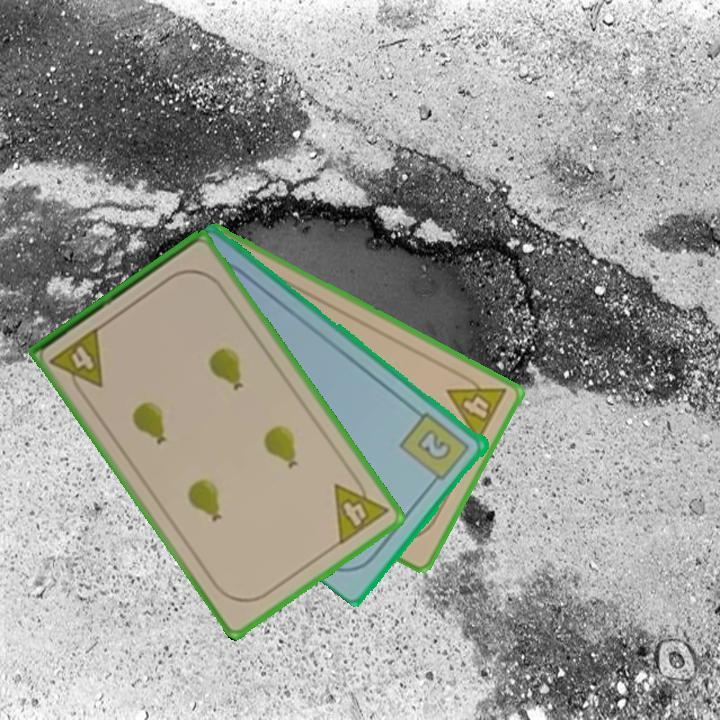2b: (397, 409, 473, 489)
4p: (443, 367, 510, 445), (46, 323, 110, 400), (330, 469, 392, 548)
